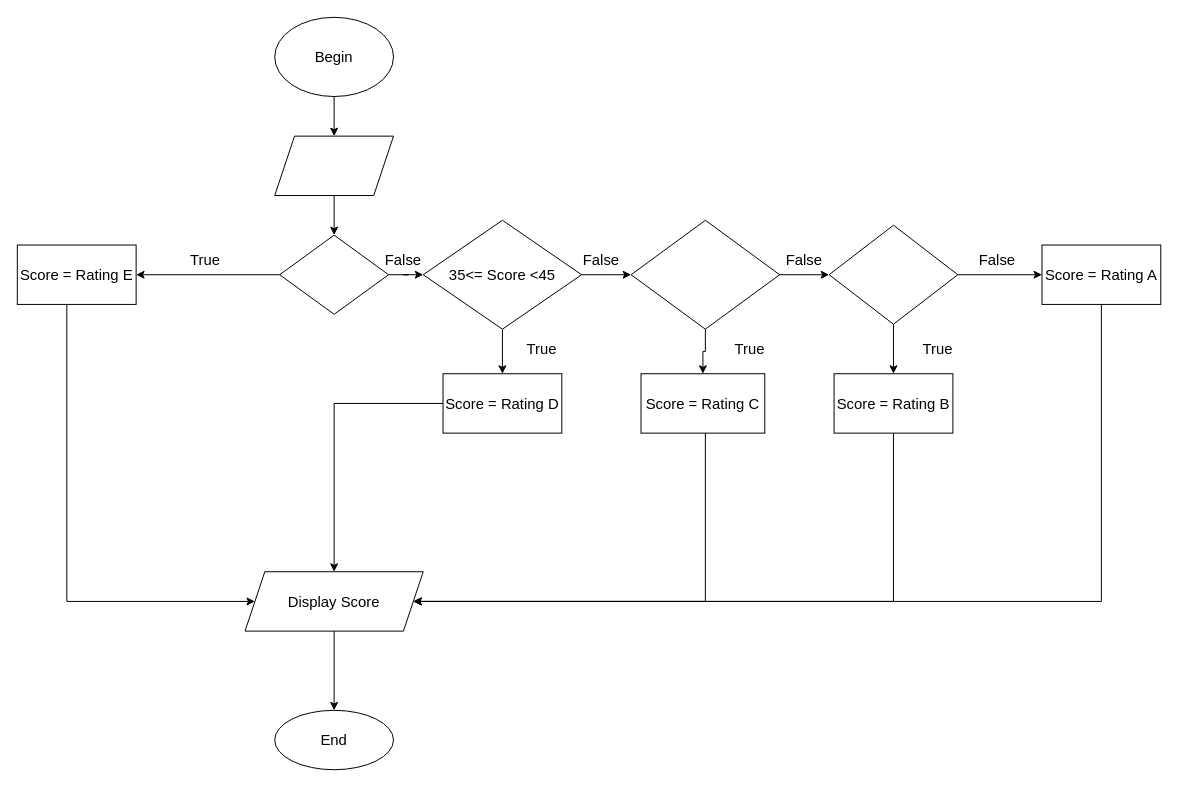
Some shapes in this 1178 by 787 pixel diagram are drawn without their labels. The centre of each missing label's shape, as x and y in pixels:
"45<= Score < 60" belongs at point (705, 274).
"60<= Score< 75" belongs at point (893, 274).
"Input Score" belongs at point (334, 165).
"Score < 35" belongs at point (334, 274).
